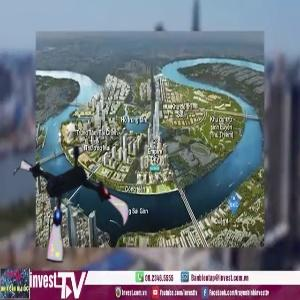drone: (11, 138, 139, 266)
